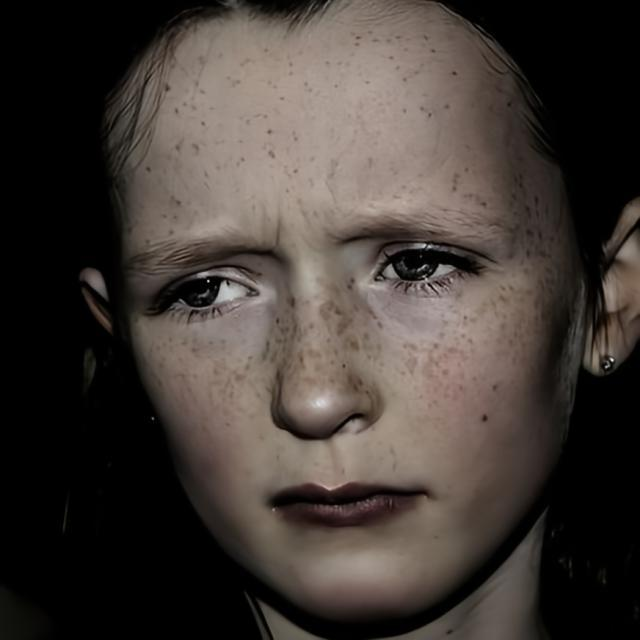sad: (120, 0, 574, 627)
